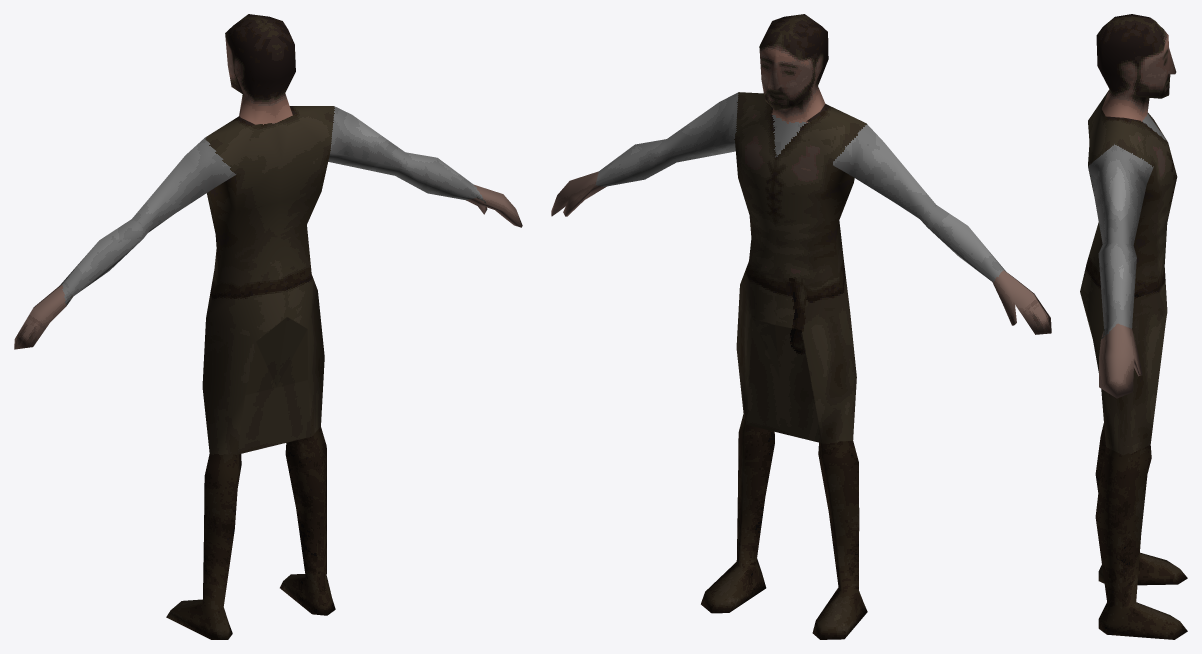
Rendered from peasant.glb.
3 renders of one model, left to right at view 1: azimuth 30°, elevation 25°; view 2: azimuth 150°, elevation 25°; view 3: azimuth 270°, elevation 25°, orthographic.
Visible parts, largest first — view 1: Peasant2; view 2: Peasant2; view 3: Peasant2.
Boxes of the visible parts, bbox=[...] form: Peasant2: bbox=[14, 14, 522, 639]; Peasant2: bbox=[551, 14, 1051, 639]; Peasant2: bbox=[1080, 14, 1187, 639].
Bounding box in the file's own units: 1.61 × 1.81 × 0.301.
1 material, 1 textured.
